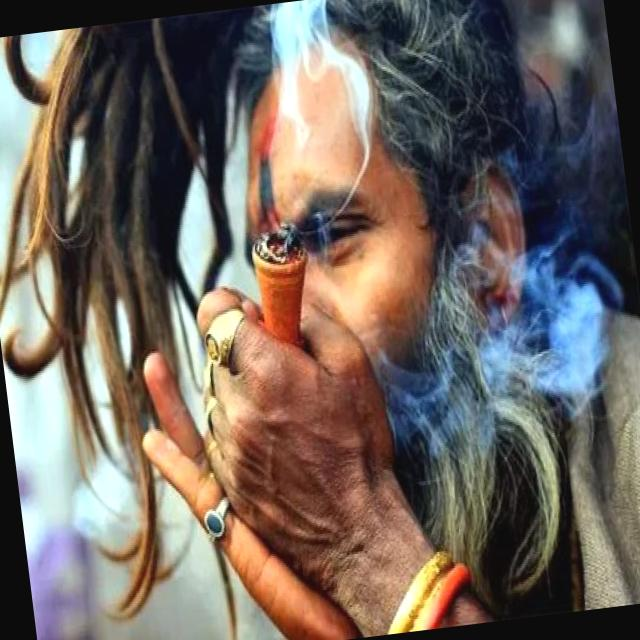cigarette: (245, 214, 335, 362)
